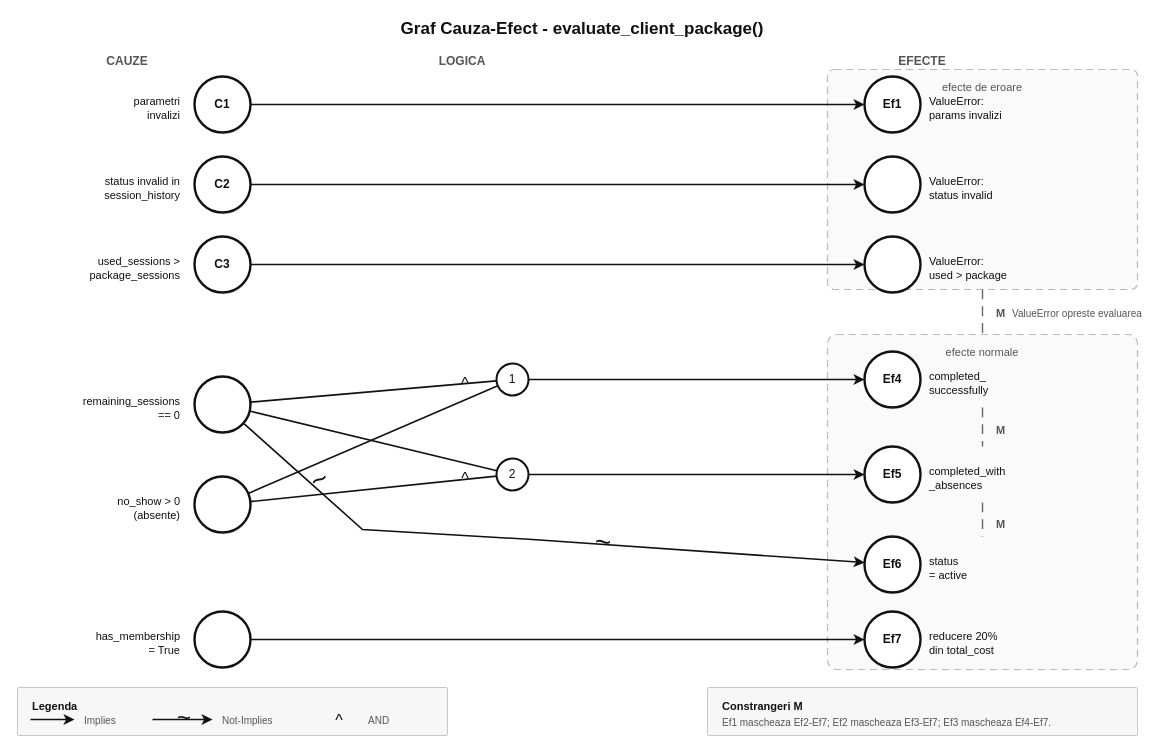
This 1173x753 diagram has some shape labels left out. Each missing label, with the box of its shape:
C4: (193, 610, 251, 668)
C5: (193, 375, 251, 433)
C6: (193, 475, 251, 533)
Ef2: (863, 155, 921, 213)
Ef3: (863, 235, 921, 293)
